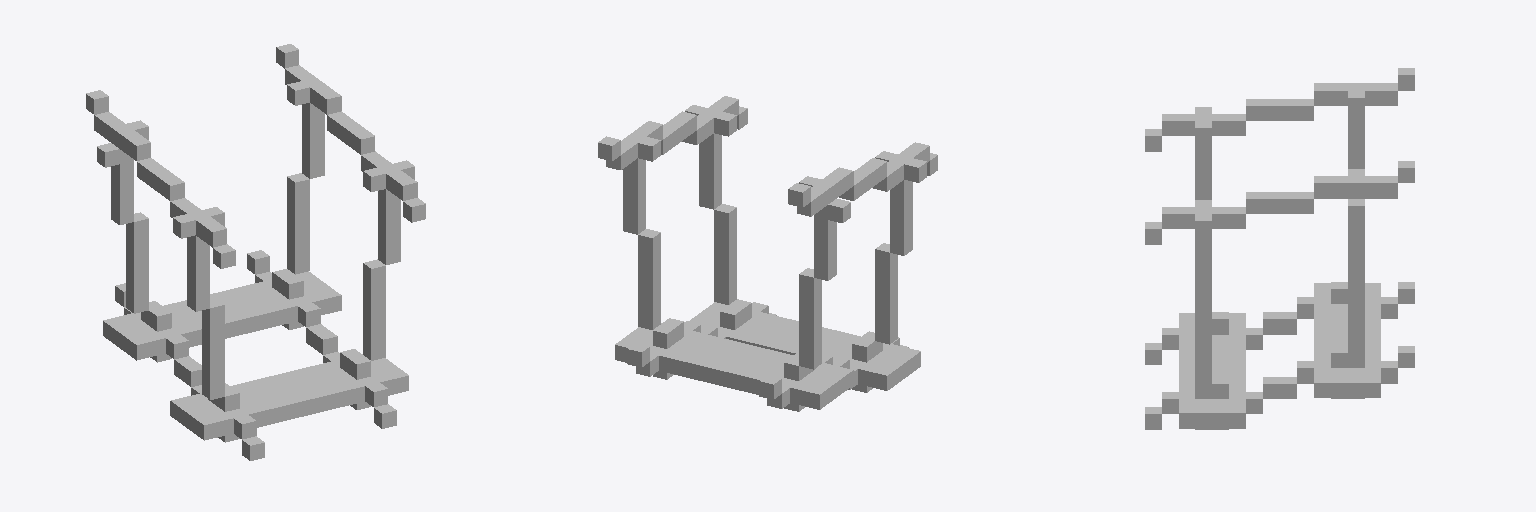
The model's file is rope_bridges_planks_up_l3.obj.
3 views of the same model, side by side, from view 1: azimuth 30°, elevation 25°; view 2: azimuth 150°, elevation 25°; view 3: azimuth 270°, elevation 25° (orthographic).
Visible parts, largest first — view 1: node_0_0_0; view 2: node_0_0_0; view 3: node_0_0_0.
Part boxes in pixels (x1,y1,x2,y2): node_0_0_0: (86,44,425,460); node_0_0_0: (598,96,937,411); node_0_0_0: (1145,68,1414,429).
Bounding box in the file's own units: 1 × 1.12 × 1.